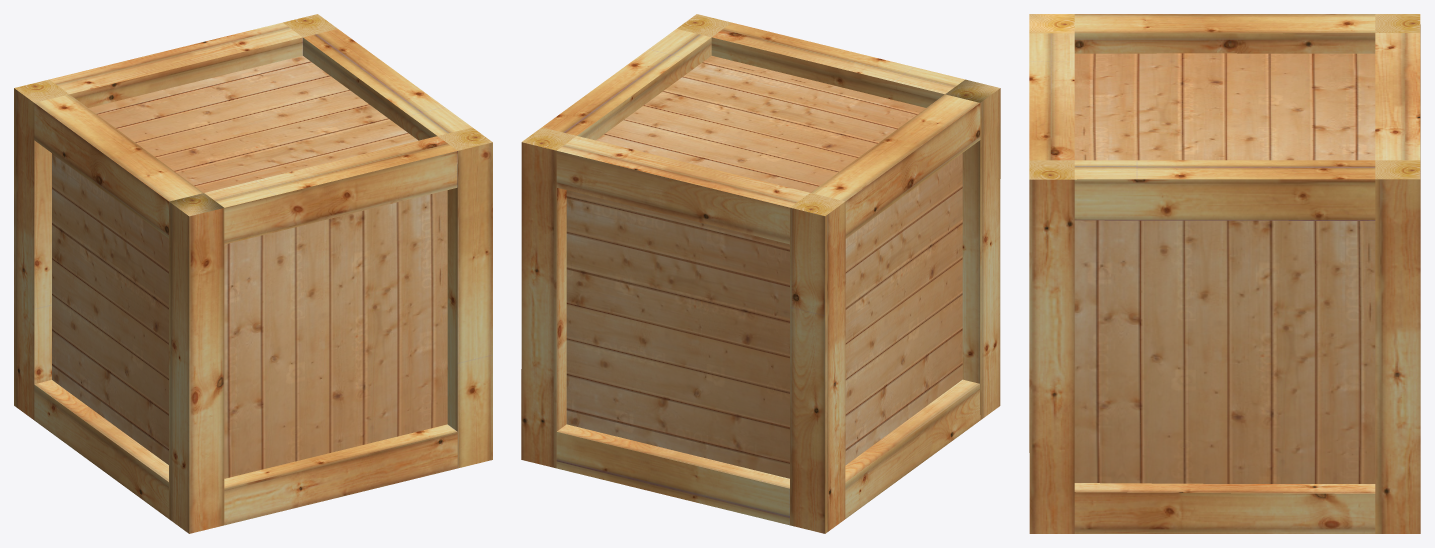
3 views of the same model, side by side, from view 1: azimuth 30°, elevation 25°; view 2: azimuth 150°, elevation 25°; view 3: azimuth 270°, elevation 25° (orthographic). The views are drawn at different scales.
Visible parts, largest first — view 1: Crate; view 2: Crate; view 3: Crate.
Part boxes in pixels (bbox=[...]): Crate: bbox=[14, 14, 492, 533]; Crate: bbox=[521, 14, 1000, 533]; Crate: bbox=[1029, 14, 1420, 533].
Bounding box in the file's own units: 147 × 147 × 147.
1 material, 1 textured.
